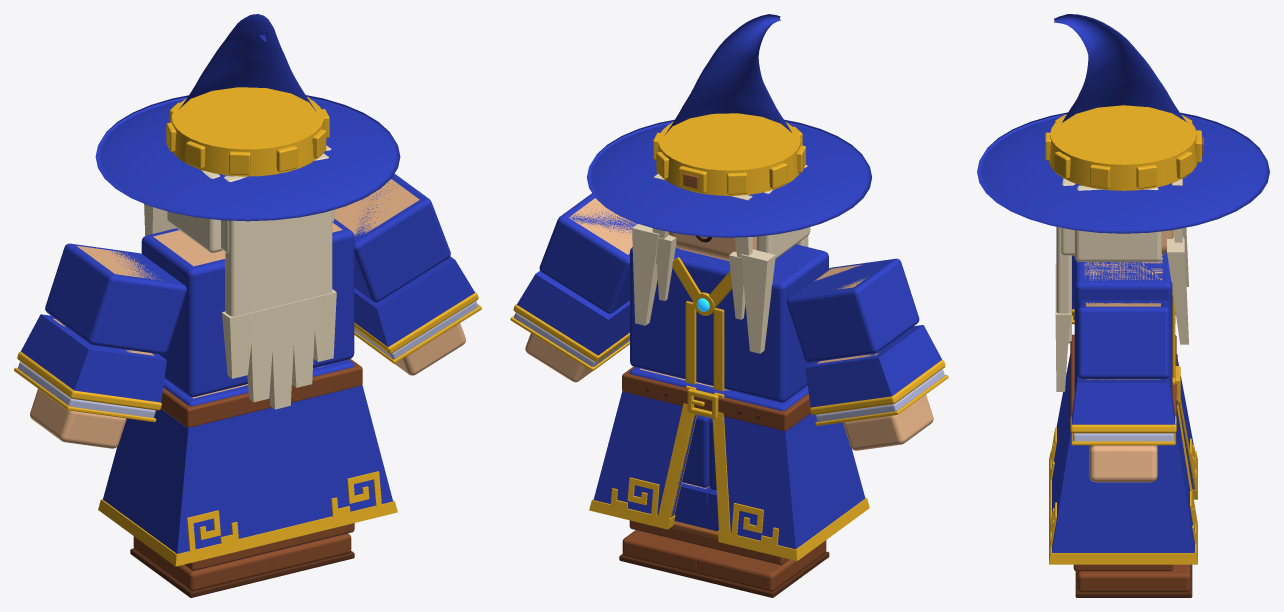
The model's file is arcanist_female.glb.
The picture shows the model from 3 angles, left to right: view 1: azimuth 30°, elevation 25°; view 2: azimuth 150°, elevation 25°; view 3: azimuth 270°, elevation 25°; orthographic projection. The views are drawn at different scales.
Parts seen in each view (by area): view 1: Hat, RobeSkirt, Hair, UpperTorso, LeftUpperArm, LeftLowerArm, RightUpperArm, RightLowerArm, LowerTorso, LeftFoot, LeftHand, RightFoot (+3 smaller); view 2: Hat, RobeSkirt, UpperTorso, LeftUpperArm, LeftLowerArm, Hair, RightUpperArm, RightLowerArm, LowerTorso, LeftFoot, RightFoot, LeftHand (+5 smaller); view 3: Hat, RobeSkirt, RightUpperArm, Hair, RightLowerArm, UpperTorso, RightFoot, RightHand, RightLowerLeg, LowerTorso.
Boxes of the visible parts, left/top/right/bottom form: Hat: left=95, top=14, right=400, bottom=221; RobeSkirt: left=98, top=385, right=397, bottom=566; Hair: left=144, top=145, right=336, bottom=409; UpperTorso: left=141, top=219, right=354, bottom=397; LeftUpperArm: left=45, top=243, right=186, bottom=354; LeftLowerArm: left=14, top=314, right=166, bottom=422; RightUpperArm: left=334, top=173, right=450, bottom=302; RightLowerArm: left=354, top=256, right=481, bottom=363; LowerTorso: left=161, top=359, right=362, bottom=427; LeftFoot: left=130, top=536, right=275, bottom=597; LeftHand: left=30, top=388, right=126, bottom=448; RightFoot: left=269, top=533, right=354, bottom=577; Hat: left=587, top=14, right=871, bottom=237; RobeSkirt: left=589, top=391, right=869, bottom=560; UpperTorso: left=630, top=244, right=828, bottom=402; LeftUpperArm: left=786, top=258, right=919, bottom=362; LeftLowerArm: left=805, top=325, right=948, bottom=425; Hair: left=632, top=165, right=810, bottom=353; RightUpperArm: left=539, top=193, right=637, bottom=313; RightLowerArm: left=510, top=271, right=629, bottom=371; LowerTorso: left=622, top=366, right=810, bottom=430; LeftFoot: left=693, top=540, right=829, bottom=597; RightFoot: left=619, top=530, right=708, bottom=579; LeftHand: left=843, top=394, right=933, bottom=450; Hat: left=977, top=14, right=1269, bottom=233; RobeSkirt: left=1049, top=354, right=1197, bottom=564; RightUpperArm: left=1077, top=300, right=1169, bottom=378; Hair: left=1055, top=178, right=1188, bottom=391; RightLowerArm: left=1070, top=375, right=1176, bottom=445; UpperTorso: left=1074, top=230, right=1175, bottom=393; RightFoot: left=1075, top=564, right=1192, bottom=597; RightHand: left=1089, top=445, right=1157, bottom=482; RightLowerLeg: left=1073, top=564, right=1173, bottom=571; LowerTorso: left=1070, top=334, right=1180, bottom=433.
Bounding box in the file's own units: 5.28 × 6.82 × 3.36.
